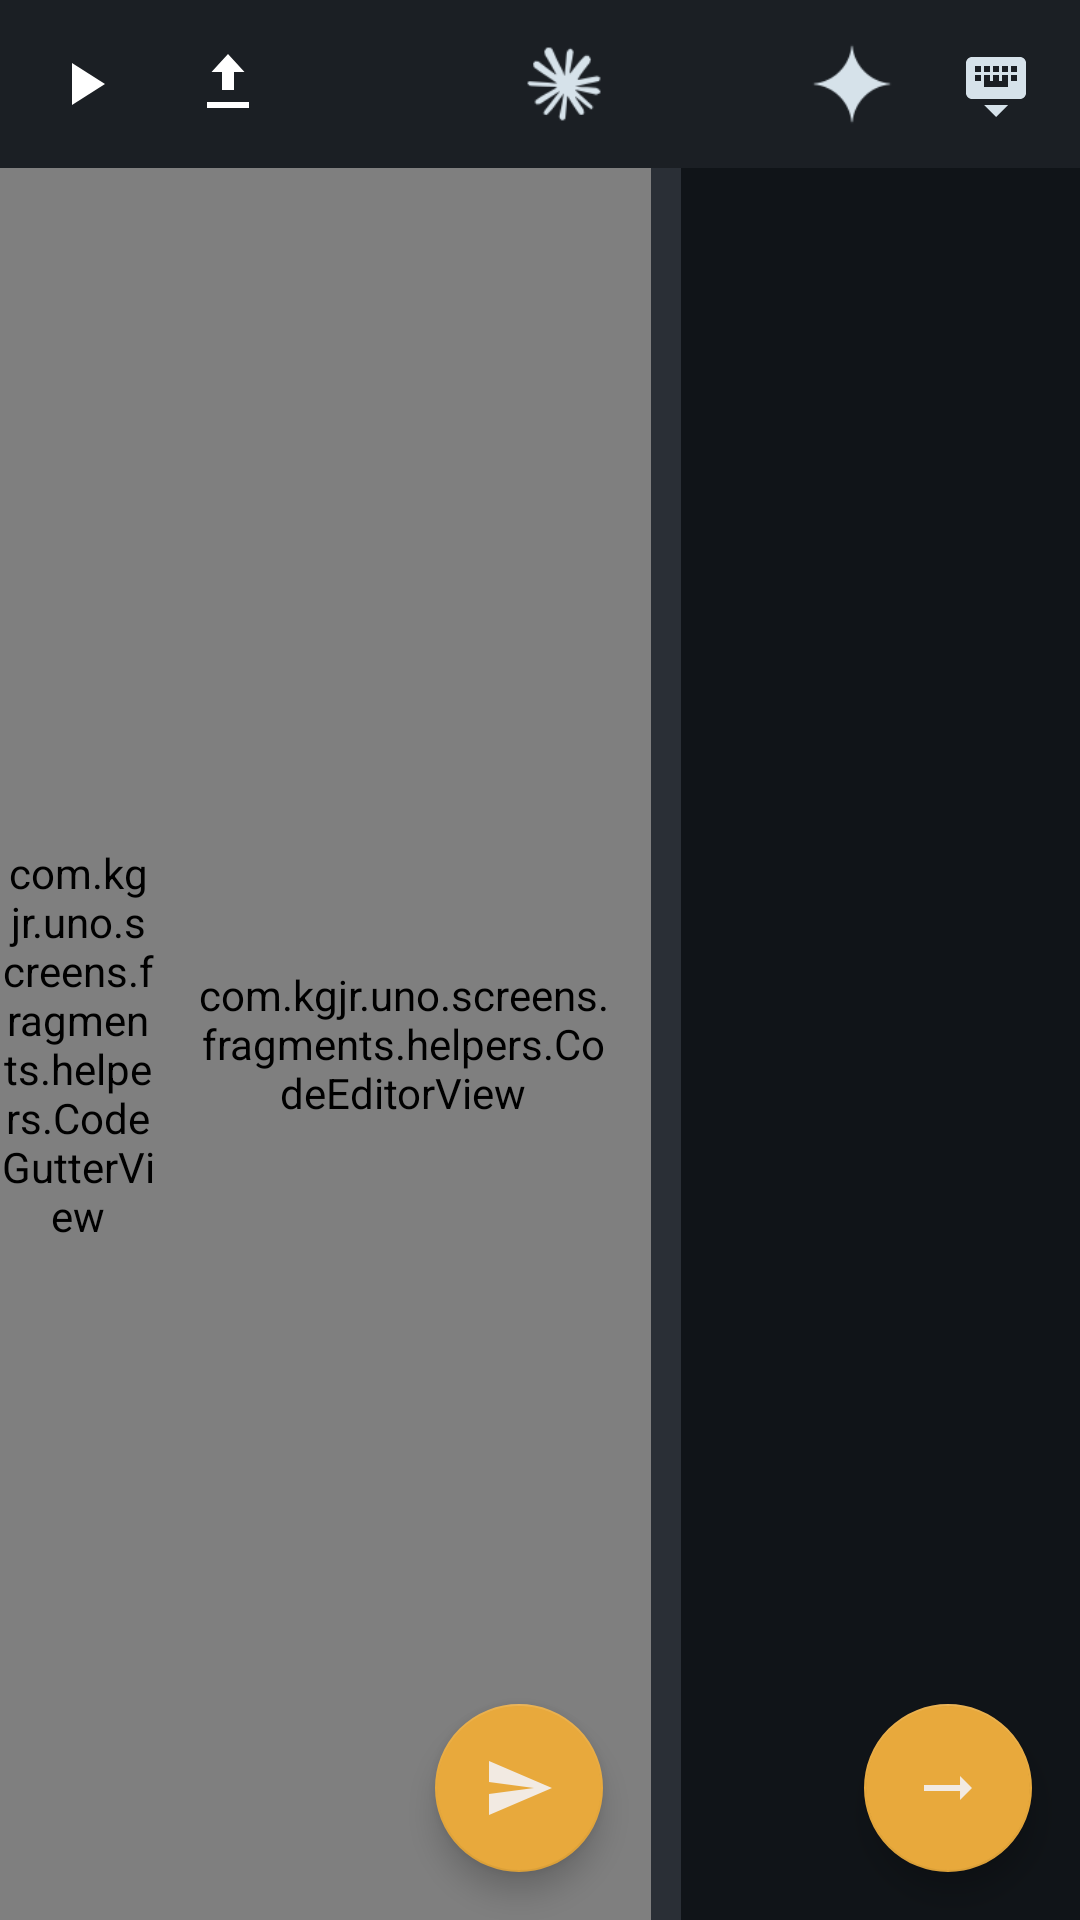

Named icons in this screenshot (1080w x 1920h) and their bounding boxes, (x1, y1, x2, y2):
Compile: (72, 63, 105, 105)
Hide keyboard: (966, 57, 1026, 117)
Send code to AI: (435, 1704, 603, 1872)
Upload: (207, 54, 249, 108)
